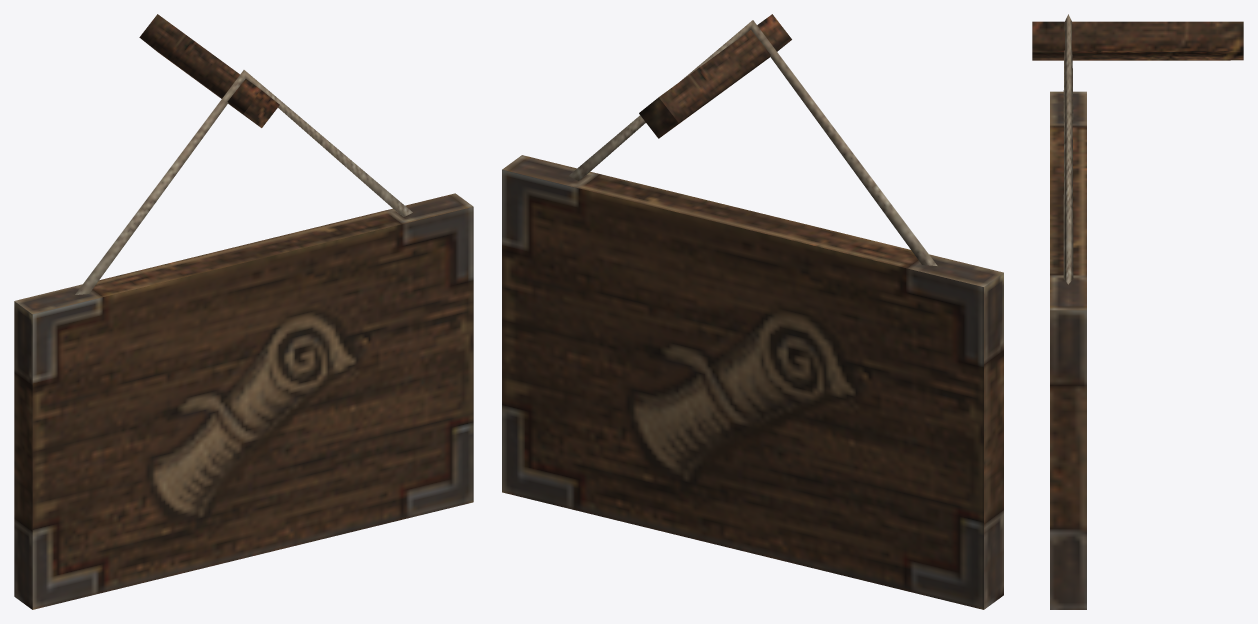
File: Sign01_g.FBX
3 views of the same model, side by side, from view 1: azimuth 30°, elevation 25°; view 2: azimuth 150°, elevation 25°; view 3: azimuth 270°, elevation 25° (orthographic). The views are drawn at different scales.
Parts seen in each view (by area): view 1: Sign01_g; view 2: Sign01_g; view 3: Sign01_g.
Part boxes in pixels (x1,y1,x2,y2): Sign01_g: (14,14,473,609); Sign01_g: (502,14,1003,609); Sign01_g: (1032,14,1243,609).
Bounding box in the file's own units: 80 × 83.15 × 32.73.
